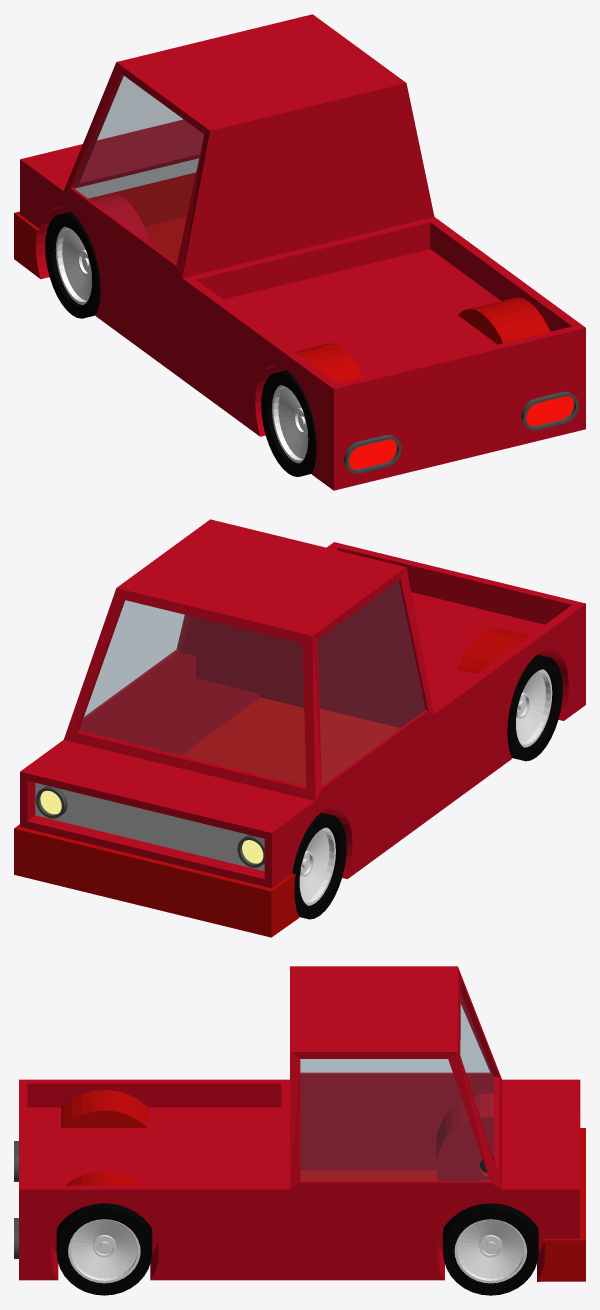
File: car.glb
The picture shows the model from 3 angles, top to bottom: view 1: azimuth 30°, elevation 25°; view 2: azimuth 150°, elevation 25°; view 3: azimuth 270°, elevation 25°; orthographic projection. The views are drawn at different scales.
Visible parts, largest first — view 1: Cube.002, Cylinder.013, Cylinder.011; view 2: Cube.002, Cylinder.013, Cylinder.011; view 3: Cube.002, Cylinder.011, Cylinder.013.
Boxes of the visible parts, <box> form: Cube.002: <box>14,14,585,490</box>; Cylinder.013: <box>261,370,316,476</box>; Cylinder.011: <box>45,212,100,318</box>; Cube.002: <box>14,519,585,937</box>; Cylinder.013: <box>507,654,562,761</box>; Cylinder.011: <box>292,812,346,919</box>; Cube.002: <box>14,966,585,1281</box>; Cylinder.011: <box>443,1156,538,1295</box>; Cylinder.013: <box>56,1203,152,1295</box>.
Size of the model in its own units: 4.11 by 3.94 by 8.8.
